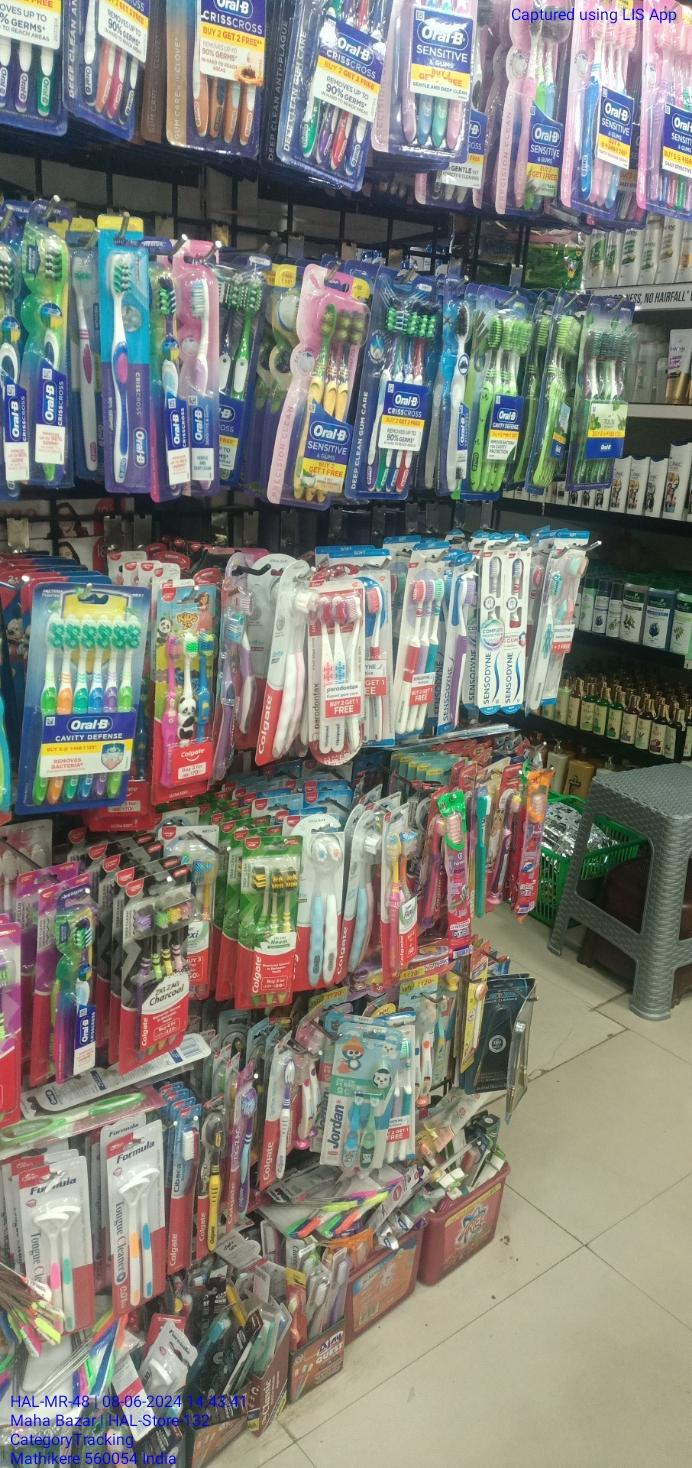10: (573, 0, 634, 225)
8: (394, 547, 439, 736)
9: (20, 213, 70, 485), (54, 892, 98, 1084)
liquid soap: (118, 888, 189, 1059)
